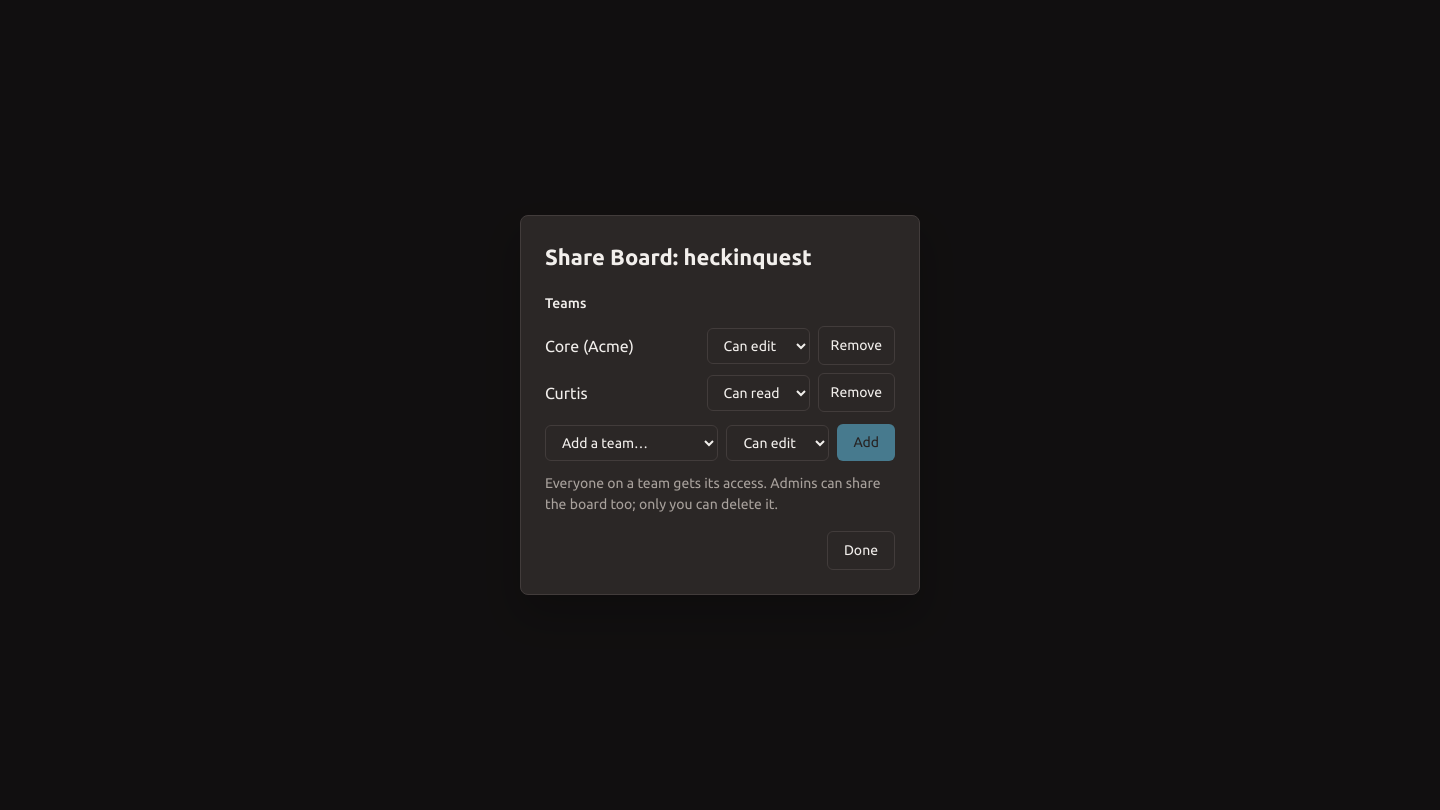
Test case: ShareModal › shows the server refusal instead of swallowing it
Click the button with aria-label "Remove Core" at point(856, 346), box [818,326,895,365]
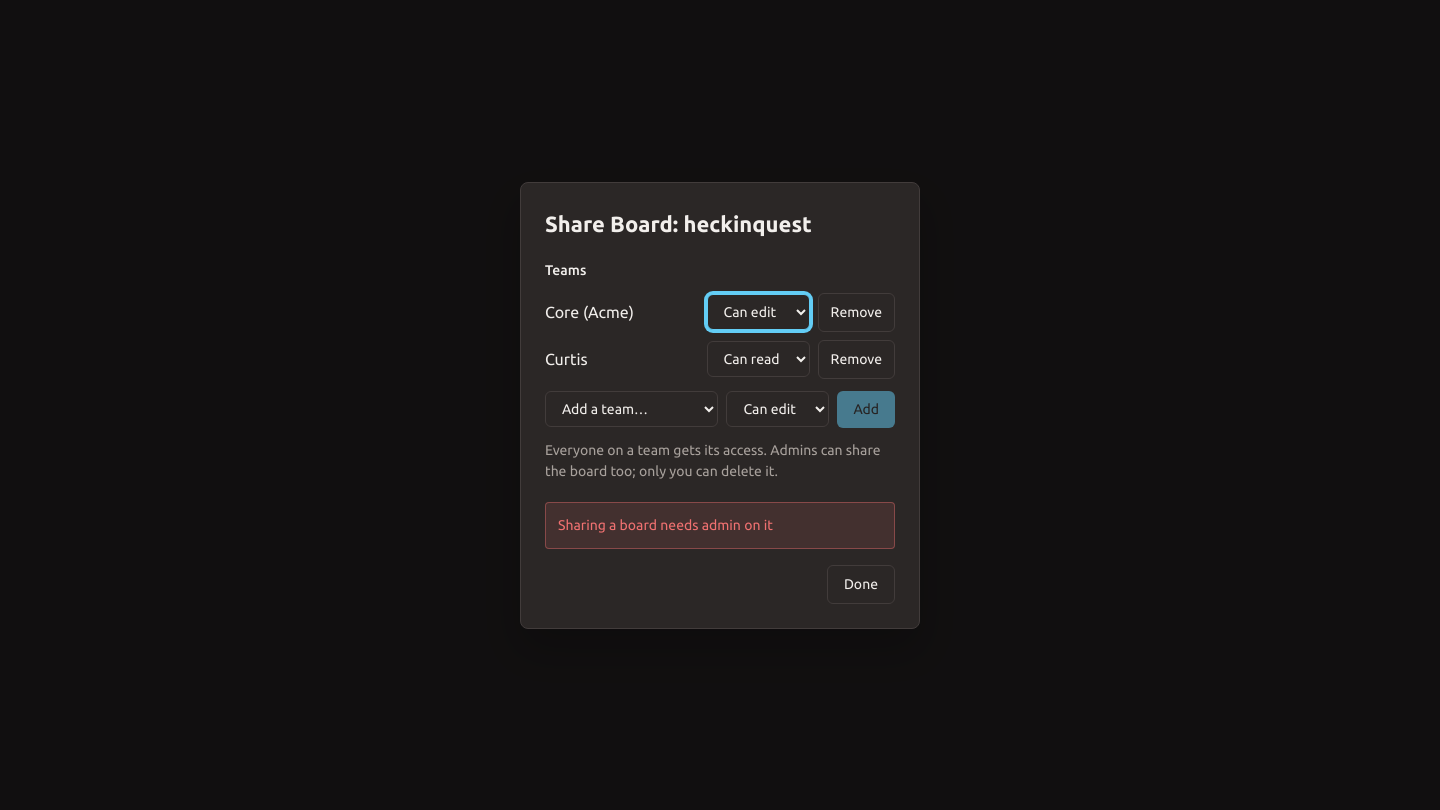
Check: the message shows "needs admin", box [558,516,773,532]
